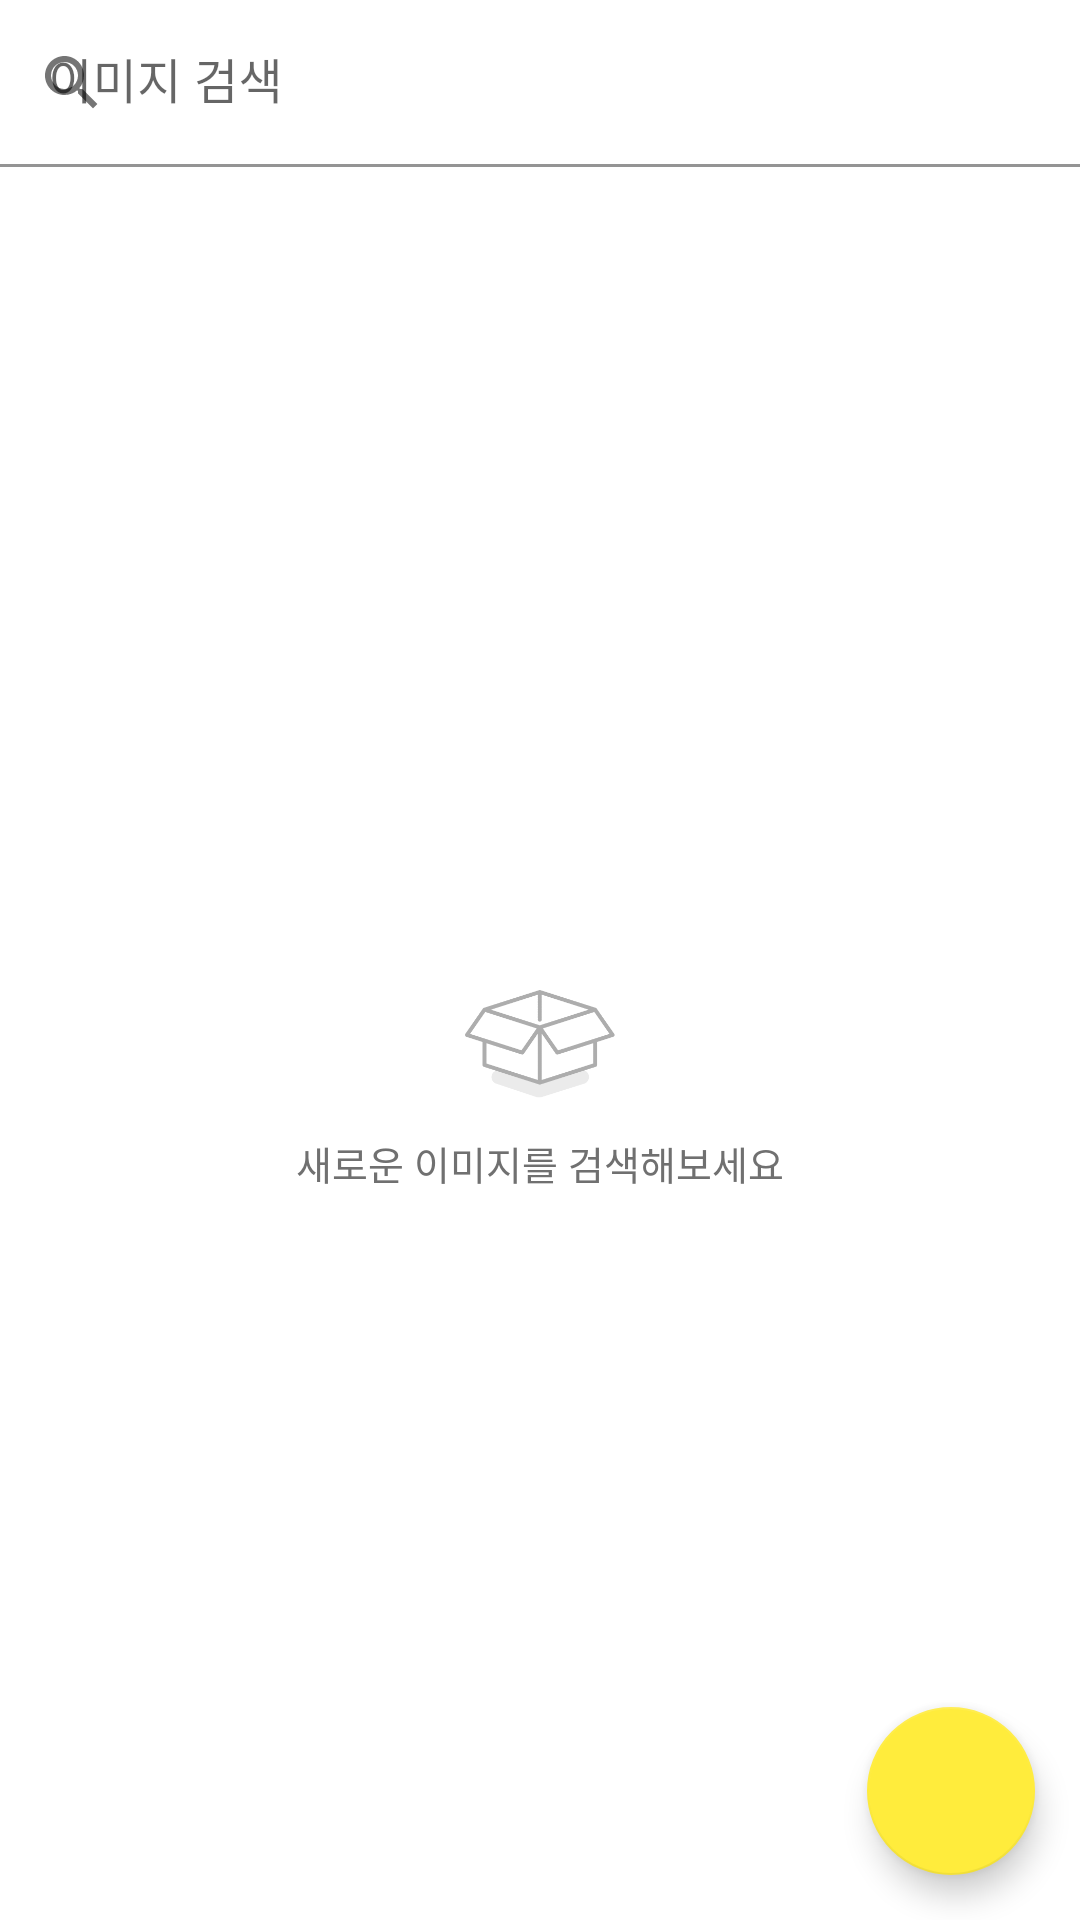

Icon click points for this 1080*1920 phone screenshot, format (x=x, y=y):
empty: (x=540, y=1037)
